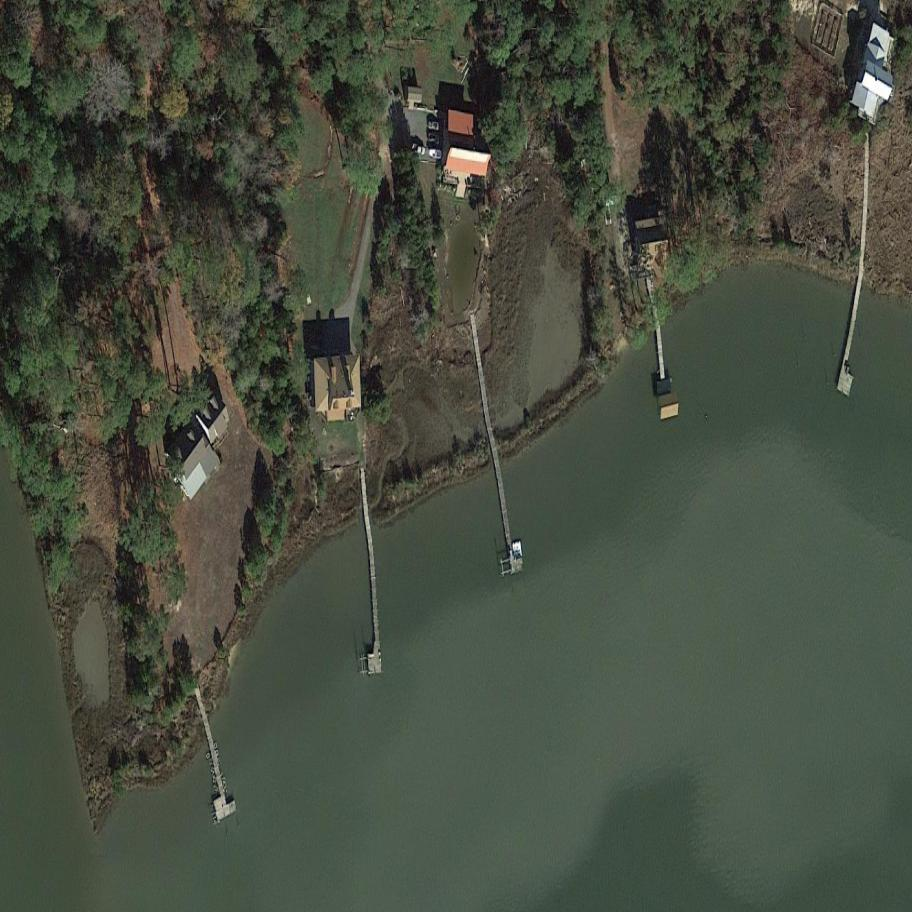small-vehicle: (410, 143, 427, 158), (426, 147, 444, 161), (424, 118, 442, 132), (426, 134, 441, 145)
